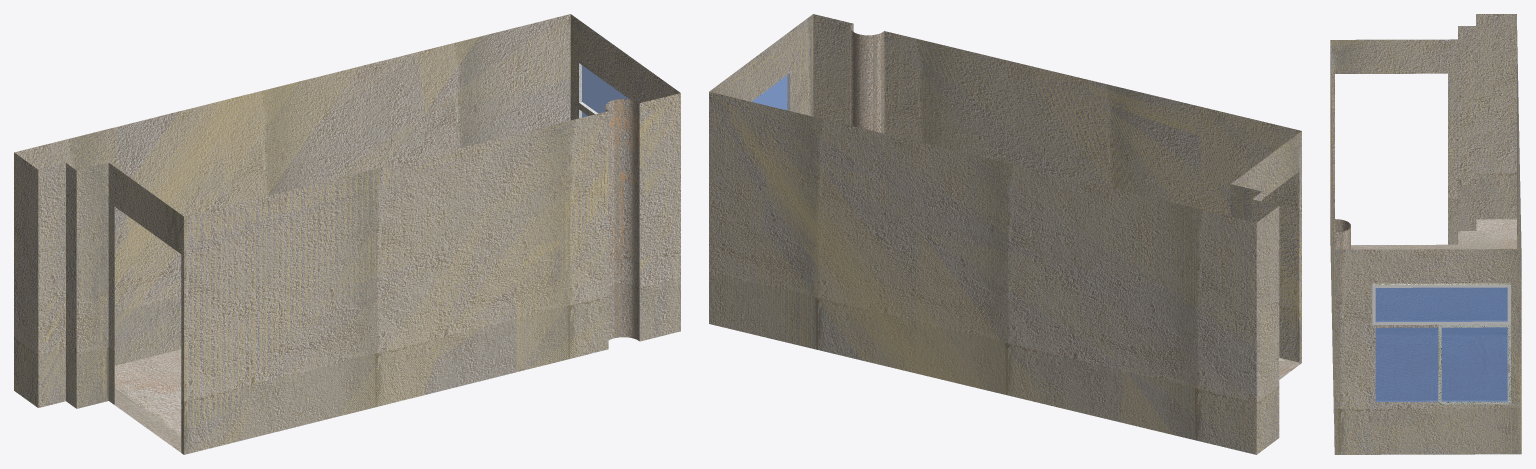
The model's file is DES010.obj.
The picture shows the model from 3 angles, left to right: view 1: azimuth 30°, elevation 25°; view 2: azimuth 150°, elevation 25°; view 3: azimuth 270°, elevation 25°; orthographic projection. The views are drawn at different scales.
Visible parts, largest first — view 1: Mesh7 DES010 Model, Mesh1 ventana1_2_1 DES010 Model; view 2: Mesh7 DES010 Model, Mesh1 ventana1_2_1 DES010 Model; view 3: Mesh7 DES010 Model, Mesh1 ventana1_2_1 DES010 Model.
Boxes of the visible parts, x1,y1,x2,y2 form: Mesh7 DES010 Model: [14, 14, 680, 454]; Mesh1 ventana1_2_1 DES010 Model: [577, 58, 636, 118]; Mesh7 DES010 Model: [709, 14, 1301, 454]; Mesh1 ventana1_2_1 DES010 Model: [748, 68, 792, 111]; Mesh7 DES010 Model: [1330, 14, 1521, 454]; Mesh1 ventana1_2_1 DES010 Model: [1372, 283, 1510, 404].
Size of the model in its own units: 8.91 by 3.6 by 3.04.
Materials: 8 (2 with a texture image).
